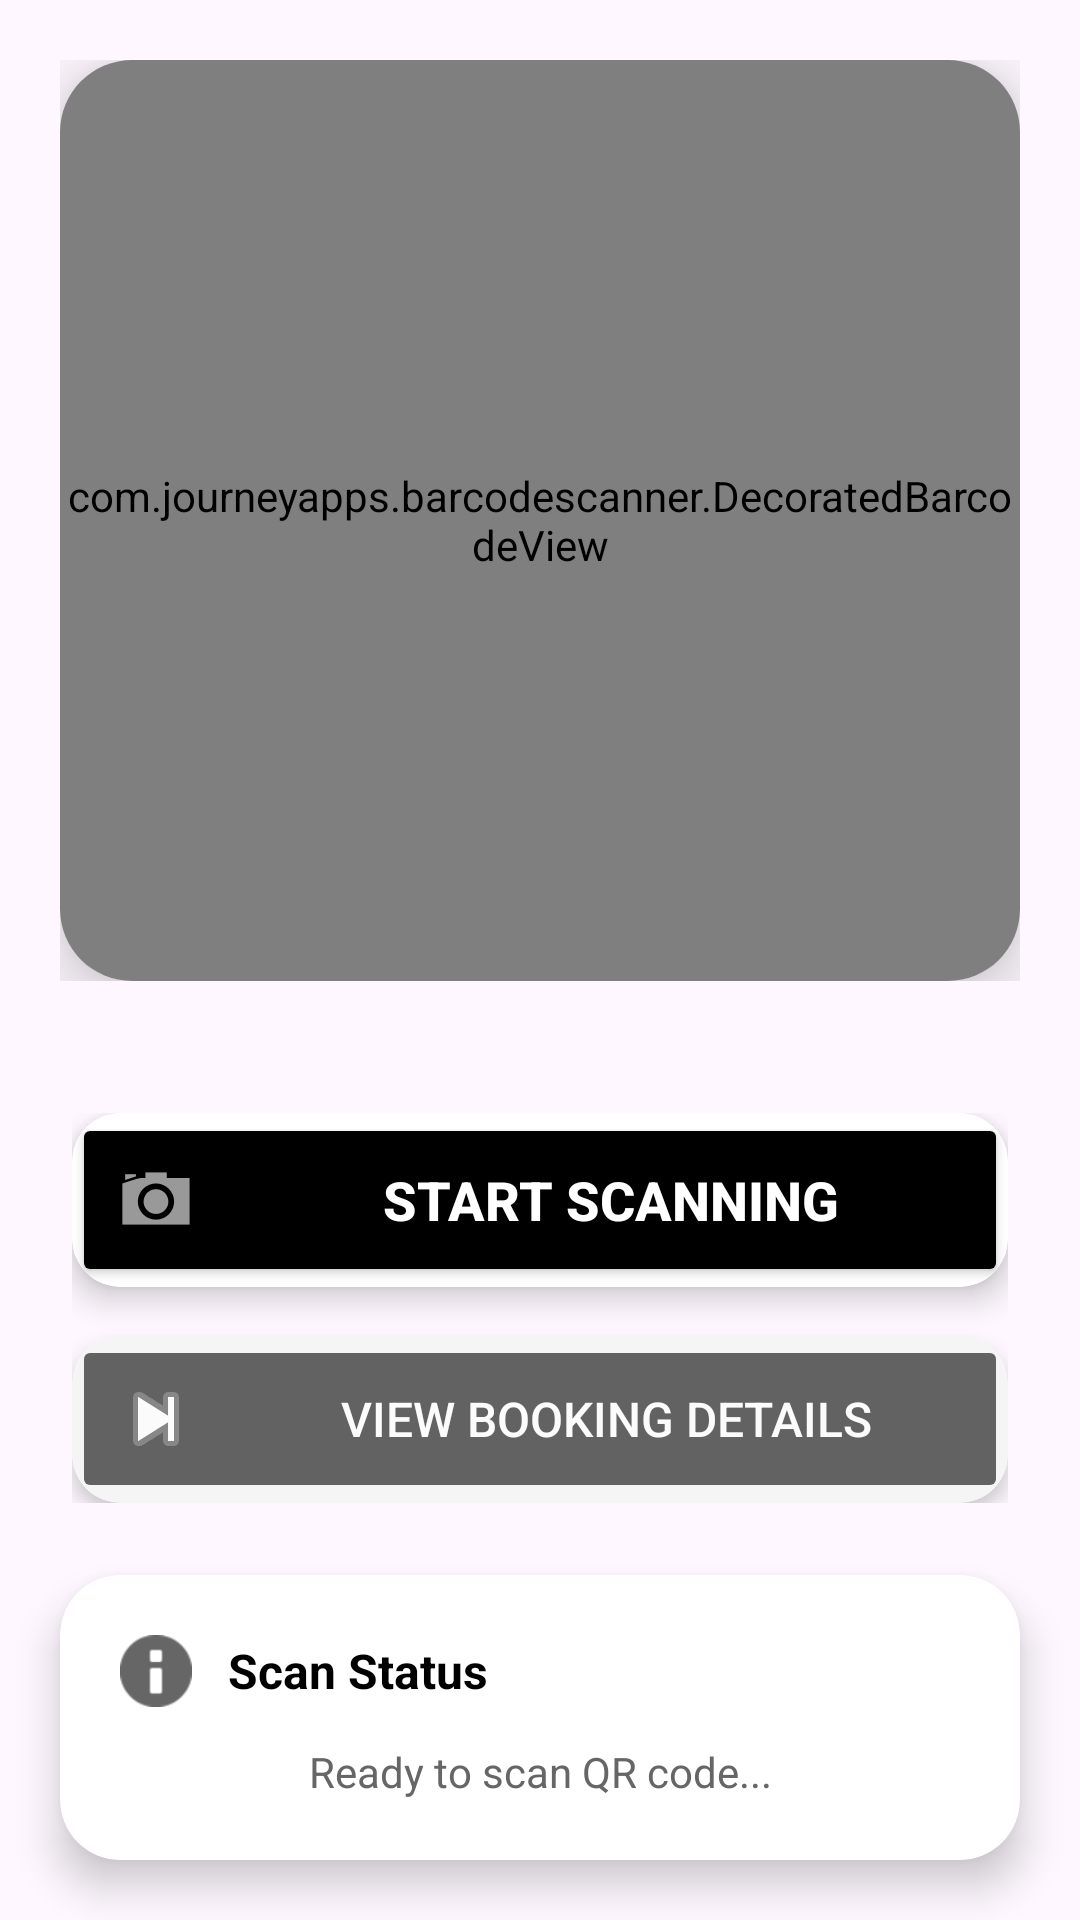

Where icons sit on this 1080w x 1920h app screen, as bbox=[x1, y1, x2, y2]:
info: bbox=[120, 1635, 192, 1707]
